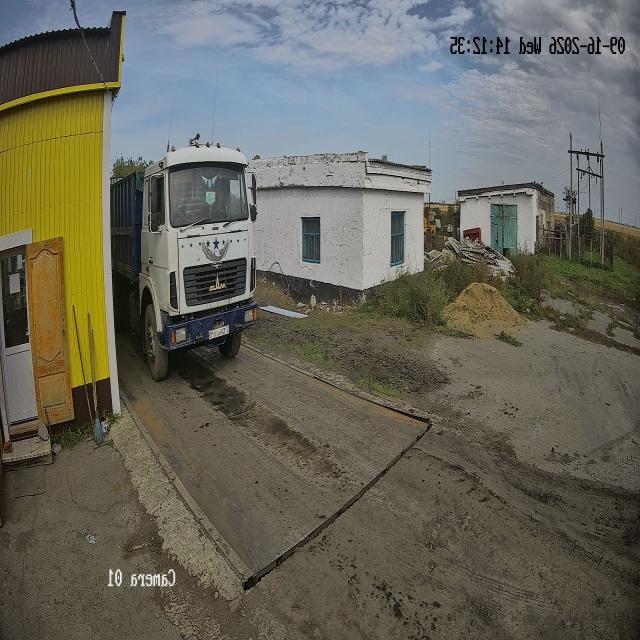license plate: (209, 325, 229, 339)
truck: (111, 135, 257, 380)
